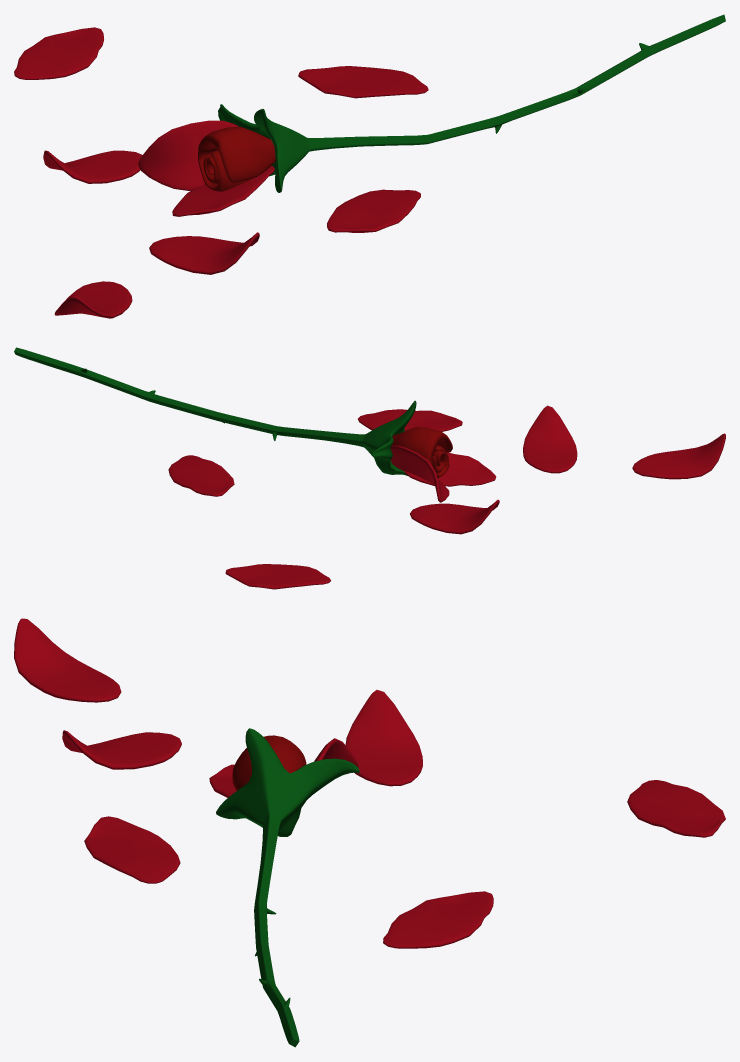
Rendered from trampledRose.fbx.
The picture shows the model from 3 angles, top to bottom: view 1: azimuth 30°, elevation 25°; view 2: azimuth 150°, elevation 25°; view 3: azimuth 270°, elevation 25°; orthographic projection. The views are drawn at different scales.
Visible parts, largest first — view 1: pCube31, pCube32, pCube23, pCube40, pCube37, pCube35, pCube39, pCube34, pCube38, pCube36; view 2: pCube31, pCube39, pCube38, pCube40, pCube34, pCube37, pCube36, pCube35, pCube32, pCube23; view 3: pCube31, pCube34, pCube38, pCube37, pCube35, pCube40, pCube39, pCube32.
Boxes of the visible parts, <box> form: pCube31: <box>218,14,725,192</box>; pCube32: <box>198,127,275,191</box>; pCube23: <box>138,120,238,190</box>; pCube40: <box>14,27,103,79</box>; pCube37: <box>298,66,428,98</box>; pCube35: <box>327,189,420,232</box>; pCube39: <box>149,232,259,274</box>; pCube34: <box>43,150,142,183</box>; pCube38: <box>54,281,132,318</box>; pCube36: <box>172,166,274,216</box>; pCube31: <box>14,347,416,475</box>; pCube39: <box>523,405,577,473</box>; pCube38: <box>632,433,725,479</box>; pCube40: <box>225,564,330,589</box>; pCube34: <box>410,499,499,534</box>; pCube37: <box>168,455,234,496</box>; pCube36: <box>402,452,496,486</box>; pCube35: <box>358,409,462,431</box>; pCube32: <box>391,426,452,478</box>; pCube23: <box>390,445,449,502</box>; pCube31: <box>216,728,359,1047</box>; pCube34: <box>345,690,422,786</box>; pCube38: <box>14,618,121,702</box>; pCube37: <box>383,891,493,948</box>; pCube35: <box>84,816,180,883</box>; pCube40: <box>627,780,725,837</box>; pCube39: <box>62,730,181,769</box>; pCube32: <box>232,735,306,790</box>.
Size of the model in its own units: 91.57 by 9.56 by 63.96.
